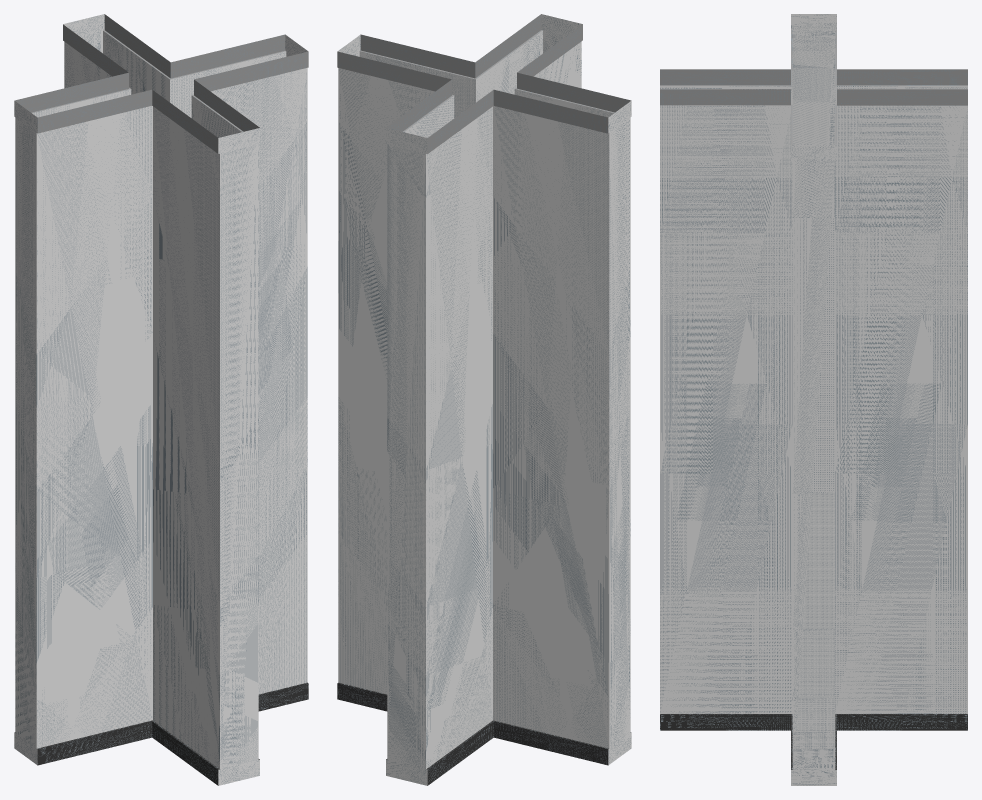
File: Corner_ds_cross_plinth_075x075x025x4.dae
3 views of the same model, side by side, from view 1: azimuth 30°, elevation 25°; view 2: azimuth 150°, elevation 25°; view 3: azimuth 270°, elevation 25° (orthographic).
Visible parts, largest first — view 1: group_0 (×7); view 2: group_0 (×7); view 3: group_0 (×7).
Part boxes in pixels (x1,y1,x2,y2): group_0 (×7): [14, 14, 308, 785]; group_0 (×7): [337, 14, 631, 785]; group_0 (×7): [660, 14, 967, 785].
Size of the model in its own units: 68.9 by 68.5 by 157.
